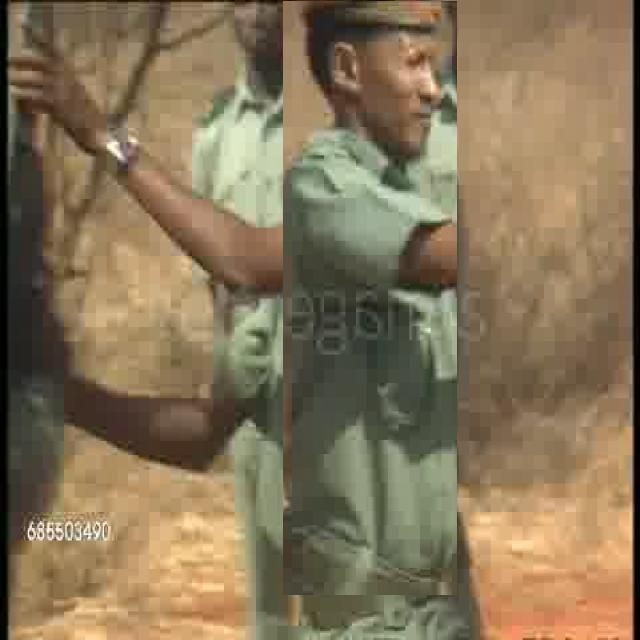poacher: (283, 2, 457, 596), (220, 2, 302, 190)
